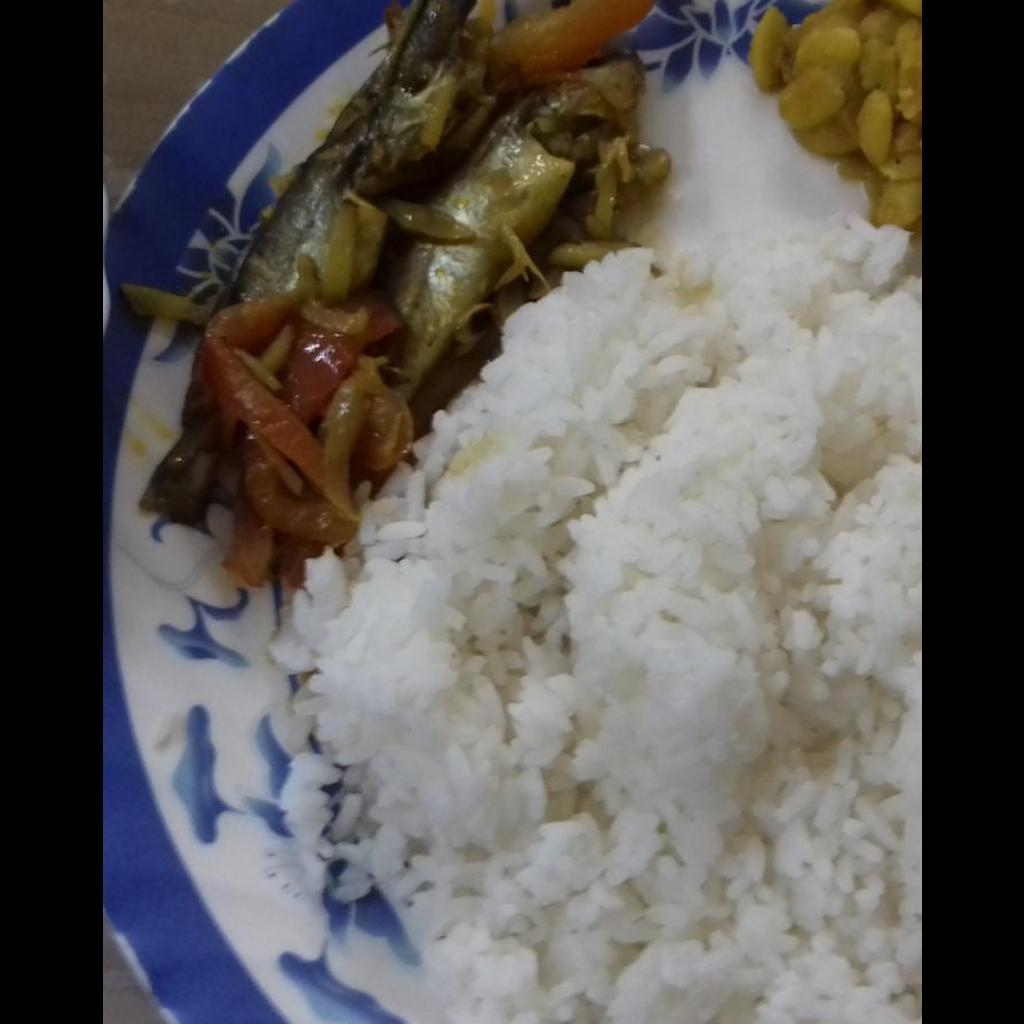daal: (748, 0, 920, 237)
fish: (142, 0, 669, 585)
rice: (283, 73, 920, 1023)
